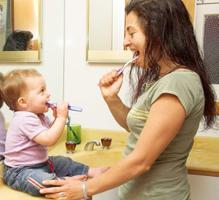person: (40, 1, 217, 200)
